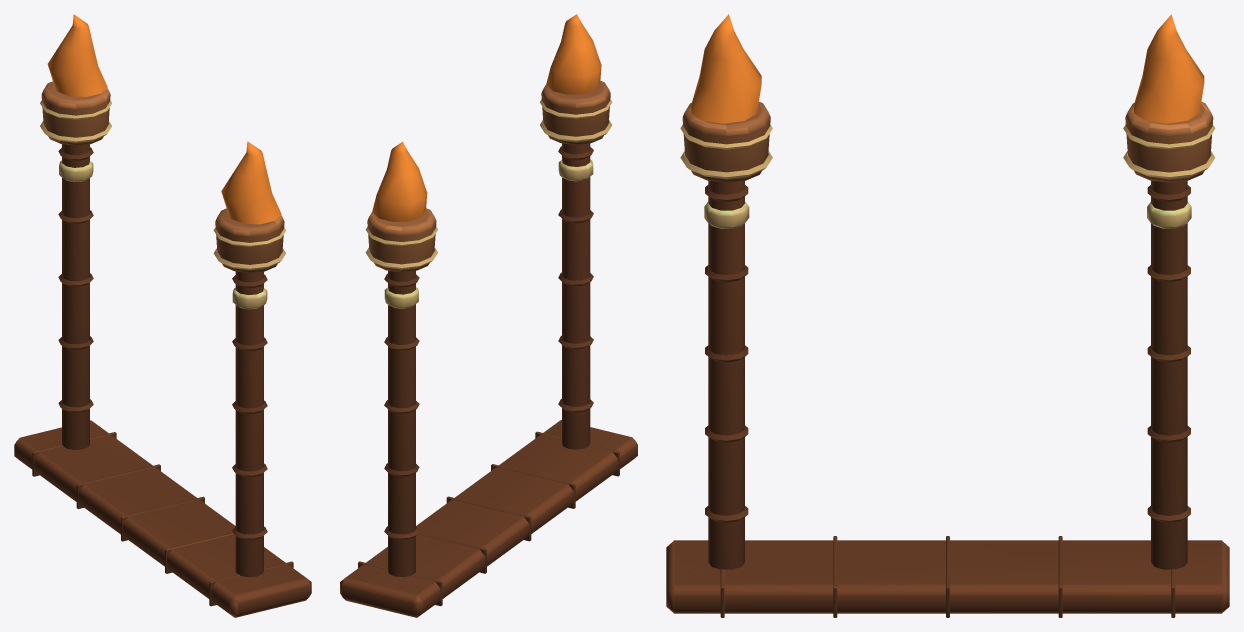
The model's file is SM_Set_TikiTorches.fbx.
The picture shows the model from 3 angles, left to right: view 1: azimuth 30°, elevation 25°; view 2: azimuth 150°, elevation 25°; view 3: azimuth 270°, elevation 25°; orthographic projection. The views are drawn at different scales.
Visible parts, largest first — view 1: SM_Set_TikiTorches; view 2: SM_Set_TikiTorches; view 3: SM_Set_TikiTorches.
Boxes of the visible parts, <box> form: SM_Set_TikiTorches: <box>14,14,311,617</box>; SM_Set_TikiTorches: <box>340,14,637,617</box>; SM_Set_TikiTorches: <box>666,14,1229,617</box>.
Bounding box in the file's own units: 30.46 × 158 × 140.
